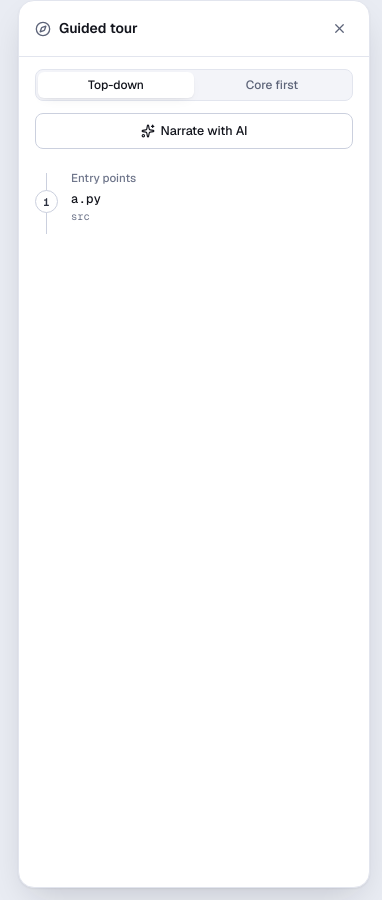
Test: GuidedTour › narration is opt-in, passes the current mode, and attaches narratives
Click the button "Narrate with AI".
click(194, 131)  # box [35,113,353,149]
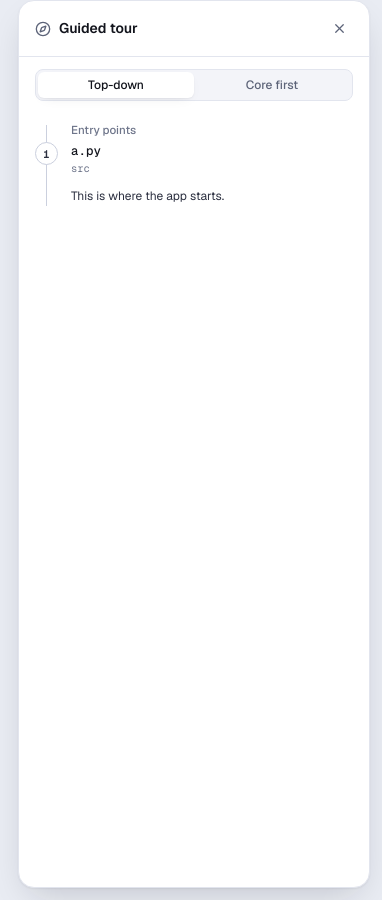
Expected: the text "This is where the app starts." is shown, [71,188,224,204]
Expected: the button "Narrate with AI" is gone
